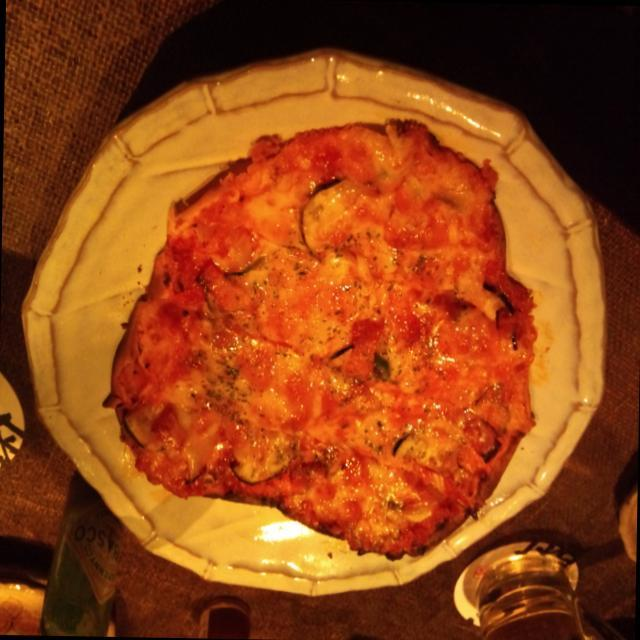Pizza: (128, 104, 542, 536)
